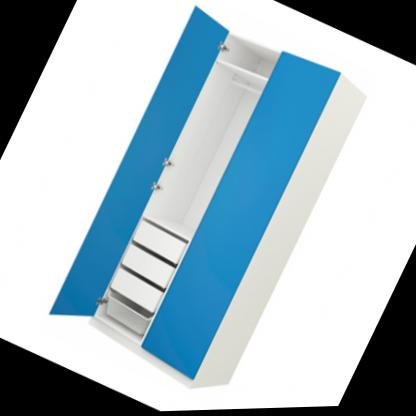Cabinet: (38, 0, 377, 412)
